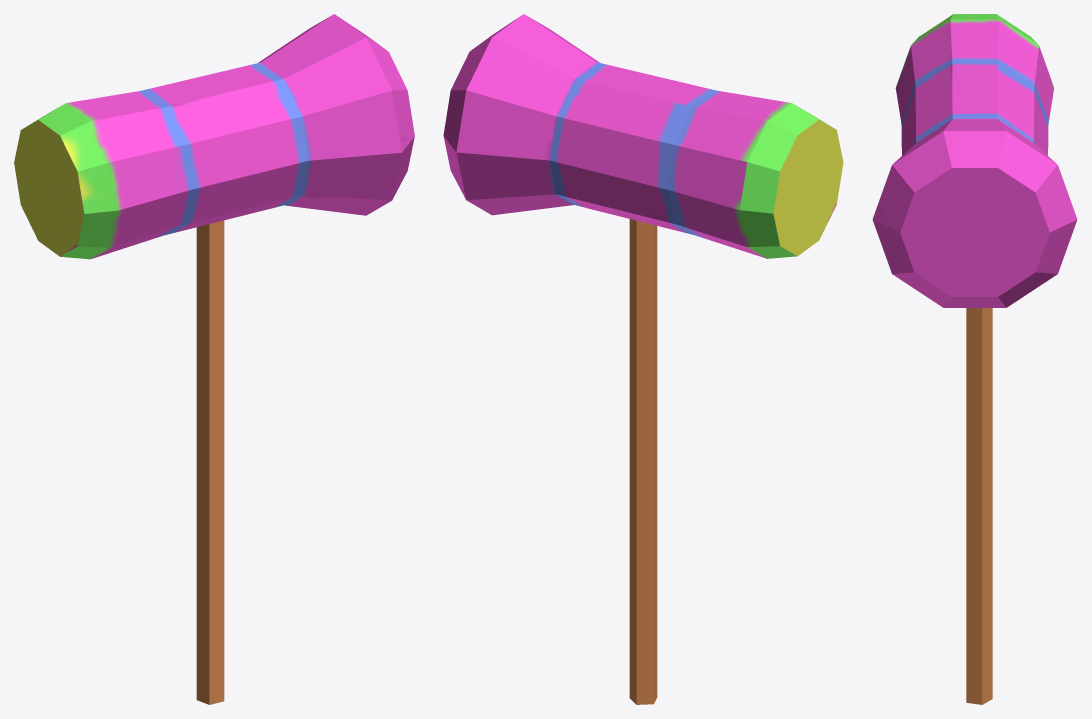
File: hammer.fbx
The picture shows the model from 3 angles, left to right: view 1: azimuth 30°, elevation 25°; view 2: azimuth 150°, elevation 25°; view 3: azimuth 270°, elevation 25°; orthographic projection.
Parts seen in each view (by area): view 1: Cylinder; view 2: Cylinder; view 3: Cylinder.
Boxes of the visible parts, x1,y1,x2,y2 form: Cylinder: (14,14,414,704); Cylinder: (443,14,843,704); Cylinder: (872,14,1077,704).
Size of the model in its own units: 420 by 784 by 230.
Materials: 2 (1 with a texture image).
